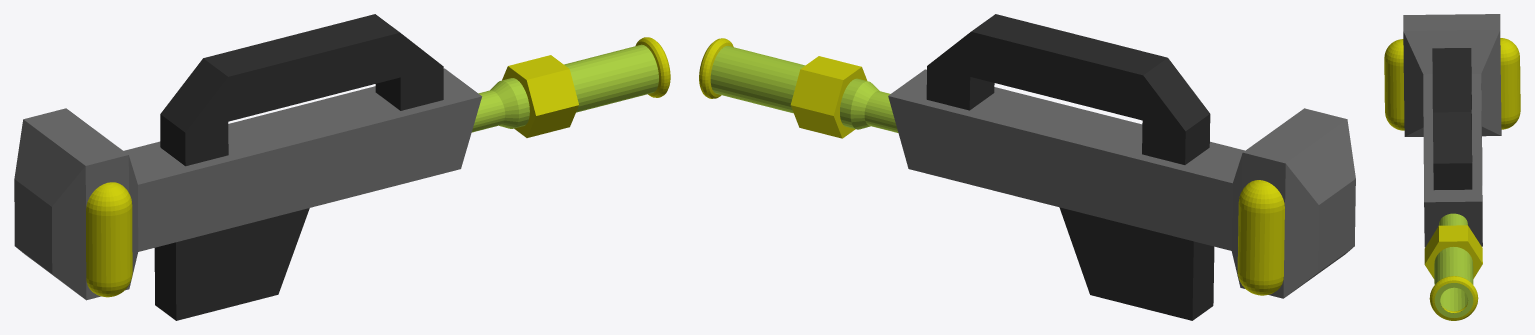
File: arm.obj
The picture shows the model from 3 angles, left to right: view 1: azimuth 30°, elevation 25°; view 2: azimuth 150°, elevation 25°; view 3: azimuth 270°, elevation 25°; orthographic projection. The views are drawn at different scales.
Parts seen in each view (by area): view 1: Cube.004_Cube.002; view 2: Cube.004_Cube.002; view 3: Cube.004_Cube.002.
Part boxes in pixels (x1,y1,x2,y2): Cube.004_Cube.002: (14, 14, 670, 320); Cube.004_Cube.002: (699, 14, 1355, 320); Cube.004_Cube.002: (1384, 14, 1520, 320).
Size of the model in its own units: 7.26 by 2.63 by 1.76.
